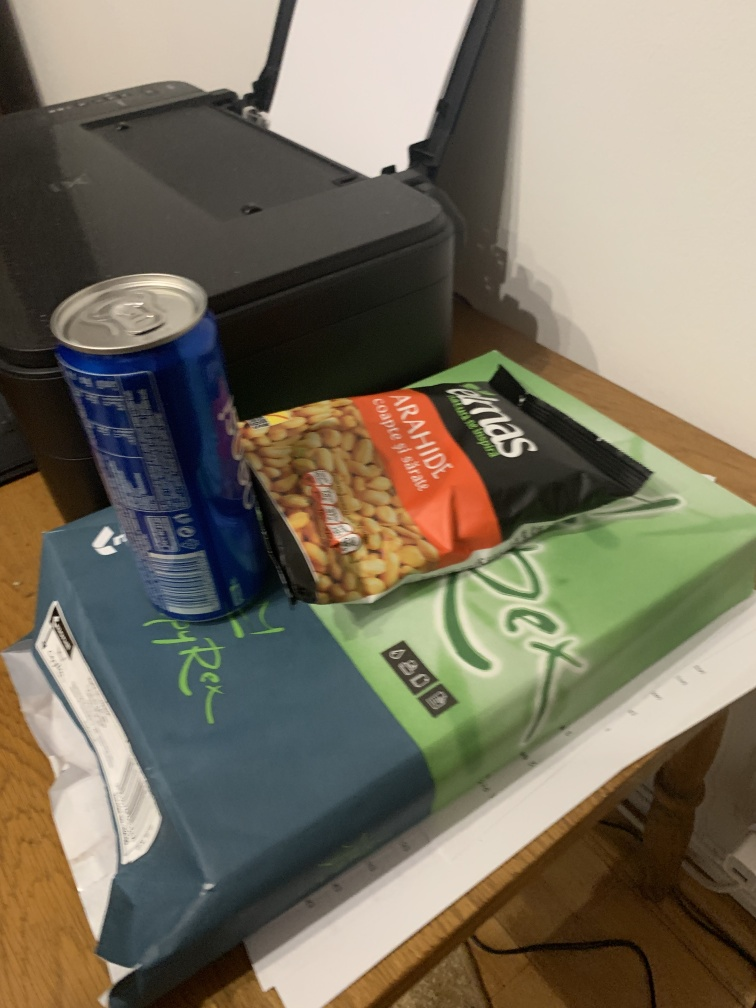peanuts: (225, 361, 671, 613)
pepsi: (49, 269, 277, 638)
